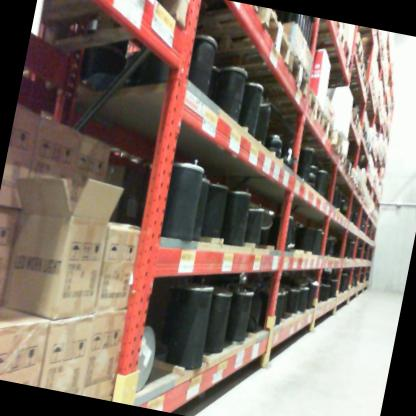pallet: (120, 0, 294, 91), (29, 0, 191, 75), (206, 37, 316, 116), (281, 15, 358, 87), (248, 75, 327, 133), (260, 103, 337, 154), (301, 130, 349, 166), (315, 152, 355, 180), (344, 96, 363, 141), (343, 31, 370, 62), (354, 74, 375, 104), (352, 113, 370, 146), (352, 58, 368, 88)
